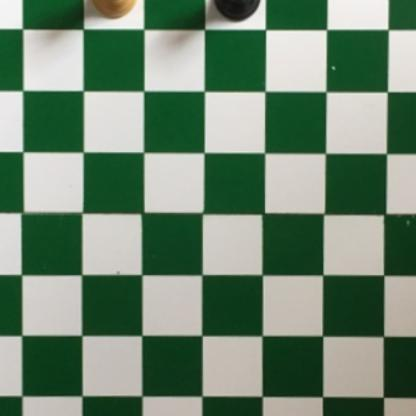black-queen: (212, 0, 264, 22)
white-queen: (89, 0, 141, 19)
